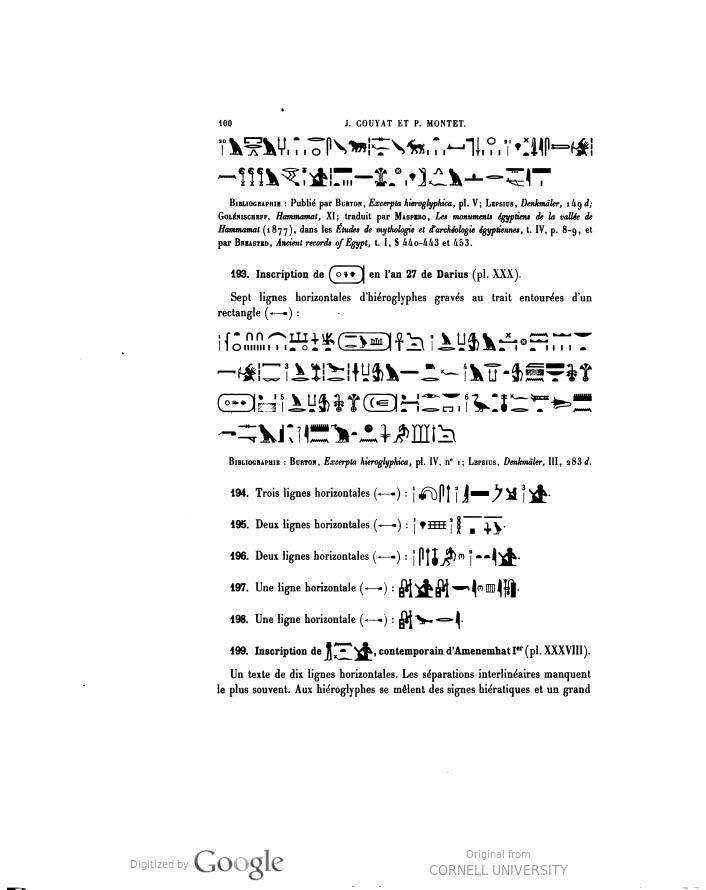circle: (336, 322, 399, 366), (318, 257, 374, 300), (214, 384, 276, 417), (356, 384, 410, 420)
